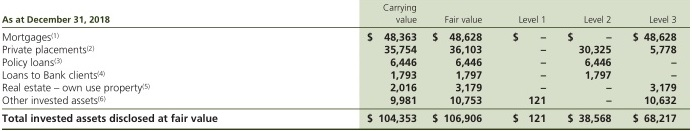column: (1, 1, 218, 130), (444, 1, 483, 131), (379, 1, 417, 131), (578, 1, 613, 131), (643, 1, 677, 131), (518, 1, 547, 131), (365, 1, 374, 131), (511, 1, 519, 131), (431, 1, 438, 131), (632, 1, 639, 131), (567, 1, 573, 131)
row: (1, 2, 692, 14), (1, 56, 691, 68), (1, 70, 692, 81), (1, 45, 691, 56), (1, 113, 691, 124), (1, 32, 692, 42), (1, 83, 691, 93), (1, 96, 691, 106), (1, 15, 691, 24)
